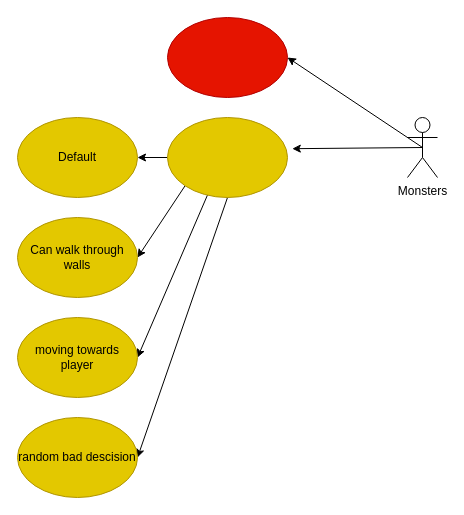
Image size: 464x515. Some labels were removed from this diagram. The shapes that lost their labels are listed below. From the top down, each one's centre as x and y in pixels, then its label:
At [227,57]: "Damage player".
At [227,157]: "Moving".
